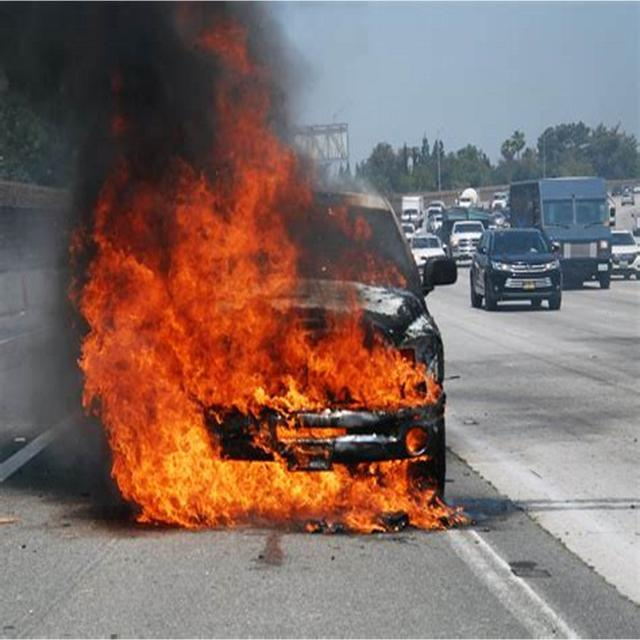Fire: (90, 200, 288, 442), (119, 456, 446, 531), (296, 326, 437, 411)
